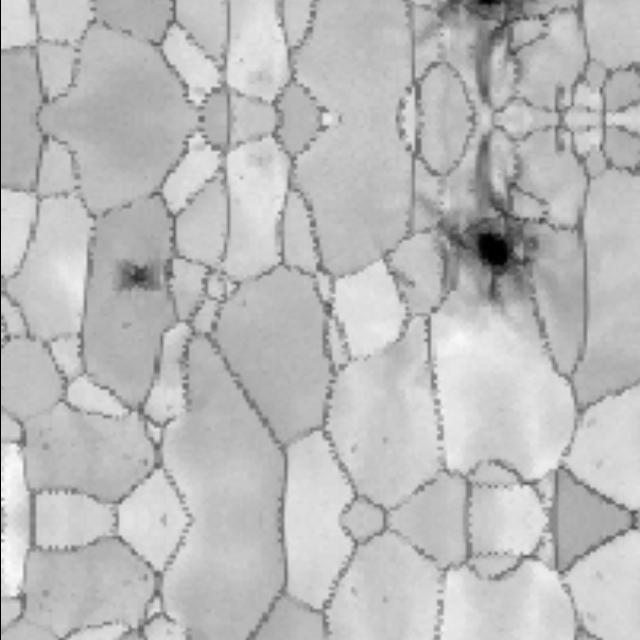good_void: (429, 132, 543, 326), (430, 0, 541, 108), (120, 260, 165, 296), (234, 299, 254, 314), (39, 442, 52, 456), (39, 586, 52, 600), (377, 434, 390, 445), (121, 318, 134, 329), (377, 597, 390, 608)
